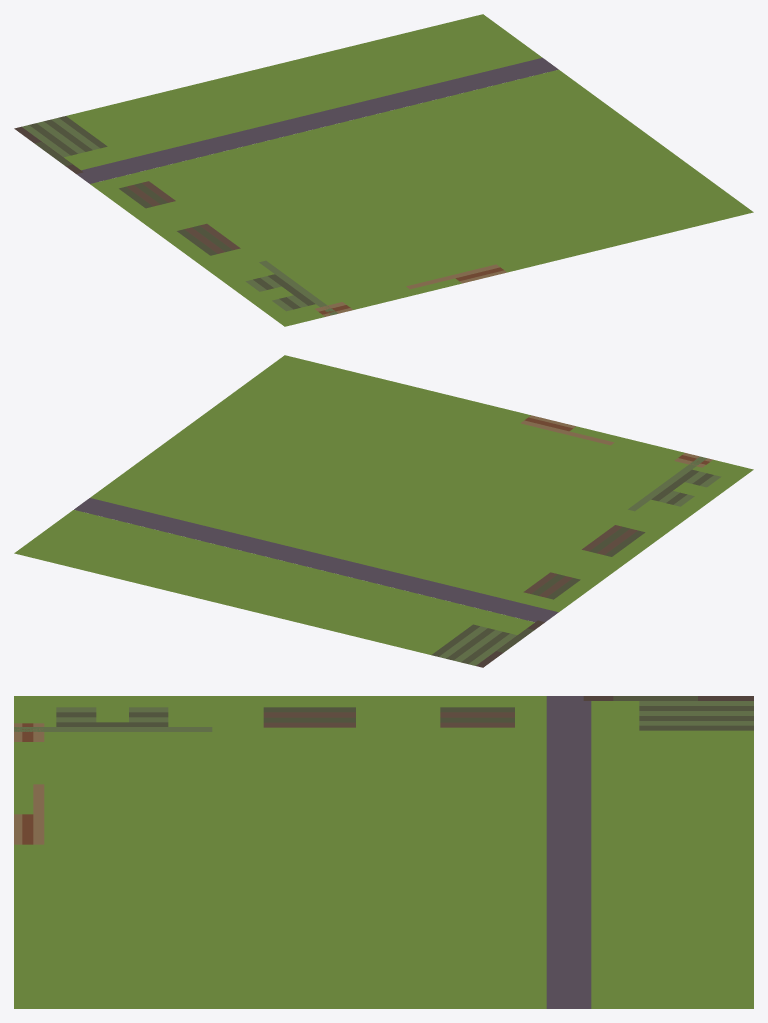
Rendered from cure-14-2.glb.
The picture shows the model from 3 angles, top to bottom: view 1: azimuth 30°, elevation 25°; view 2: azimuth 150°, elevation 25°; view 3: azimuth 270°, elevation 25°; orthographic projection. The views are drawn at different scales.
Visible parts, largest first — view 1: cure-14-2; view 2: cure-14-2; view 3: cure-14-2.
Boxes of the visible parts, x1=… form: cure-14-2: x1=14, y1=14, x2=753, y2=326; cure-14-2: x1=14, y1=355, x2=753, y2=667; cure-14-2: x1=14, y1=696, x2=753, y2=1008.
Size of the model in its own units: 100 by 0.008 by 100.
